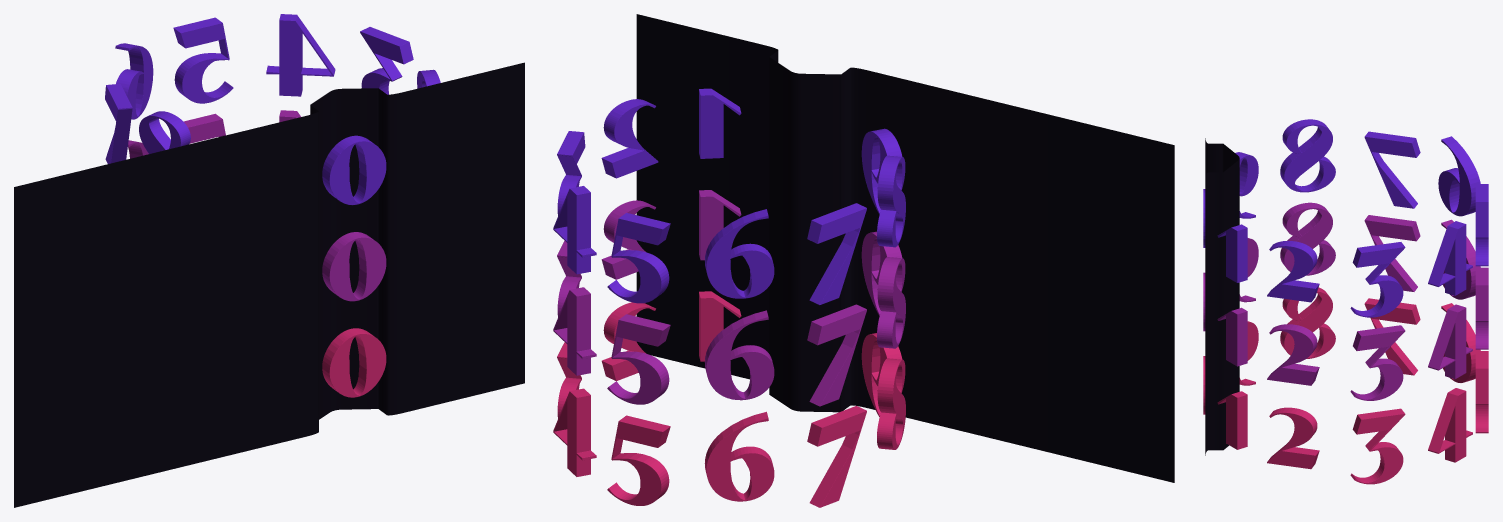
File: countdown.glb
The picture shows the model from 3 angles, left to right: view 1: azimuth 30°, elevation 25°; view 2: azimuth 150°, elevation 25°; view 3: azimuth 270°, elevation 25°; orthographic projection. The views are drawn at different scales.
Parts seen in each view (by area): view 1: Plane, Text.002, Text, Text.001; view 2: Plane, Text.002, Text, Text.001; view 3: Text.002, Text, Text.001, Plane.
Boxes of the visible parts, x1,y1,x2,y2 form: Plane: [14, 62, 524, 507]; Text.002: [105, 14, 440, 205]; Text: [128, 110, 386, 301]; Text.001: [322, 328, 386, 397]; Plane: [636, 14, 1174, 482]; Text.002: [553, 88, 905, 304]; Text: [553, 190, 905, 406]; Text.001: [553, 291, 905, 507]; Text.002: [1203, 119, 1488, 317]; Text: [1203, 202, 1488, 400]; Text.001: [1203, 287, 1488, 484]; Plane: [1205, 138, 1239, 455].
Bounding box in the file's own units: 7.5 × 4.5 × 4.18.
